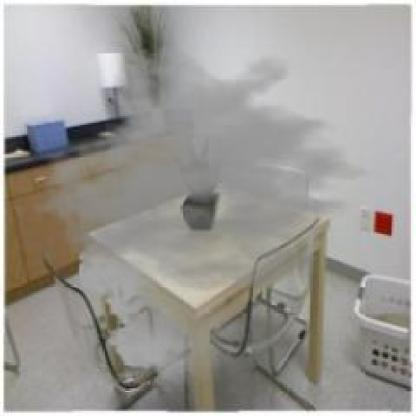Smoke: (31, 45, 388, 387)
